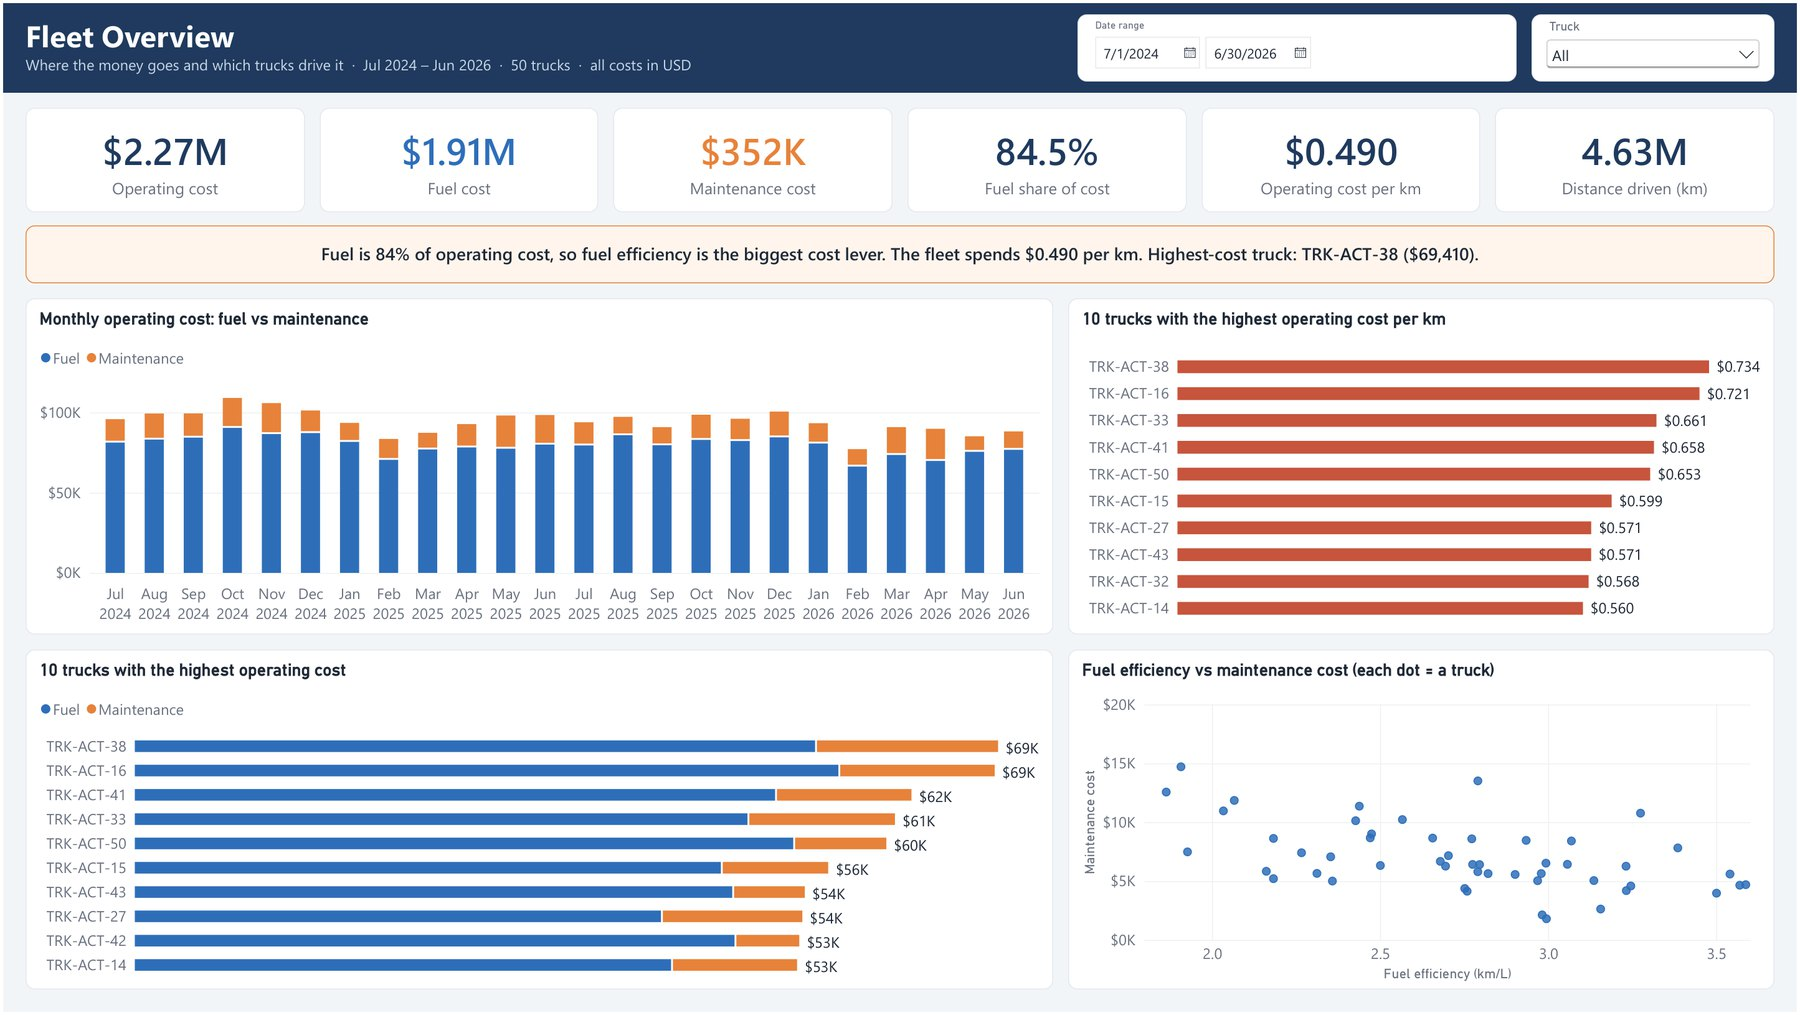

This screenshot's page, from the dashboard's own definition file:
{"tool":"powerbi","page":{"name":"Fleet Overview","canvas":[1920,1080],"ordinal":0},"visuals":[{"type":"textbox","box":[0,0,1920,96],"z":0},{"type":"slicer","fields":{"Values":["DimDate.Date"]},"box":[1150,12,470,72],"z":100},{"type":"slicer","fields":{"Values":["DimTruck.Truck ID"]},"box":[1636,12,260,72],"z":101},{"type":"card","fields":{"Values":["_Measures_.Total Operating Cost"]},"box":[24,112,298.7,112],"z":1000},{"type":"card","fields":{"Values":["_Measures_.Total Fuel Cost"]},"box":[338.7,112,298.7,112],"z":1001},{"type":"card","fields":{"Values":["_Measures_.Total Maintenance Cost"]},"box":[653.3,112,298.7,112],"z":1002},{"type":"card","fields":{"Values":["_Measures_.Fuel Share of Operating Cost"]},"box":[968,112,298.7,112],"z":1003},{"type":"card","fields":{"Values":["_Measures_.Operating Cost per KM"]},"box":[1282.7,112,298.7,112],"z":1004},{"type":"card","fields":{"Values":["_Measures_.Total Distance"]},"box":[1597.3,112,298.7,112],"z":1005},{"type":"card","fields":{"Values":["_Measures_.Insight - Overview"]},"box":[24,238,1872,62],"z":1100},{"type":"columnChart","title":"Monthly operating cost: fuel vs maintenance","fields":{"Category":["DimDate.Month Year"],"Y":["_Measures_.Total Fuel Cost","_Measures_.Total Maintenance Cost"]},"box":[24,316,1100,360],"z":2000},{"type":"clusteredBarChart","title":"10 trucks with the highest operating cost per km","fields":{"Category":["DimTruck.Truck ID"],"Y":["_Measures_.Operating Cost per KM"]},"box":[1140,316,756,360],"z":2001},{"type":"barChart","title":"10 trucks with the highest operating cost","fields":{"Category":["DimTruck.Truck ID"],"Y":["_Measures_.Total Fuel Cost","_Measures_.Total Maintenance Cost"]},"box":[24,692,1100,364],"z":2002},{"type":"scatterChart","title":"Fuel efficiency vs maintenance cost (each dot = a truck)","fields":{"Category":["DimTruck.Truck ID"],"X":["_Measures_.Average Fuel Efficiency"],"Y":["_Measures_.Total Maintenance Cost"]},"box":[1140,692,756,364],"z":2003}]}

Visuals, with their boxes in screenshot pixels (x1, y1, x2, y2), scaled from the page's 1920x1080 canvas onto the 1800x1015 screenshot:
textbox: region(0, 0, 1799, 90)
slicer - DimDate.Date: region(1078, 11, 1519, 79)
slicer - DimTruck.Truck ID: region(1534, 11, 1778, 79)
card - _Measures_.Total Operating Cost: region(22, 105, 303, 211)
card - _Measures_.Total Fuel Cost: region(318, 105, 598, 211)
card - _Measures_.Total Maintenance Cost: region(612, 105, 892, 211)
card - _Measures_.Fuel Share of Operating Cost: region(908, 105, 1188, 211)
card - _Measures_.Operating Cost per KM: region(1203, 105, 1483, 211)
card - _Measures_.Total Distance: region(1497, 105, 1778, 211)
card - _Measures_.Insight - Overview: region(22, 224, 1778, 282)
"Monthly operating cost: fuel vs maintenance" columnChart: region(22, 297, 1054, 635)
"10 trucks with the highest operating cost per km" clusteredBarChart: region(1069, 297, 1778, 635)
"10 trucks with the highest operating cost" barChart: region(22, 650, 1054, 992)
"Fuel efficiency vs maintenance cost (each dot = a truck)" scatterChart: region(1069, 650, 1778, 992)
